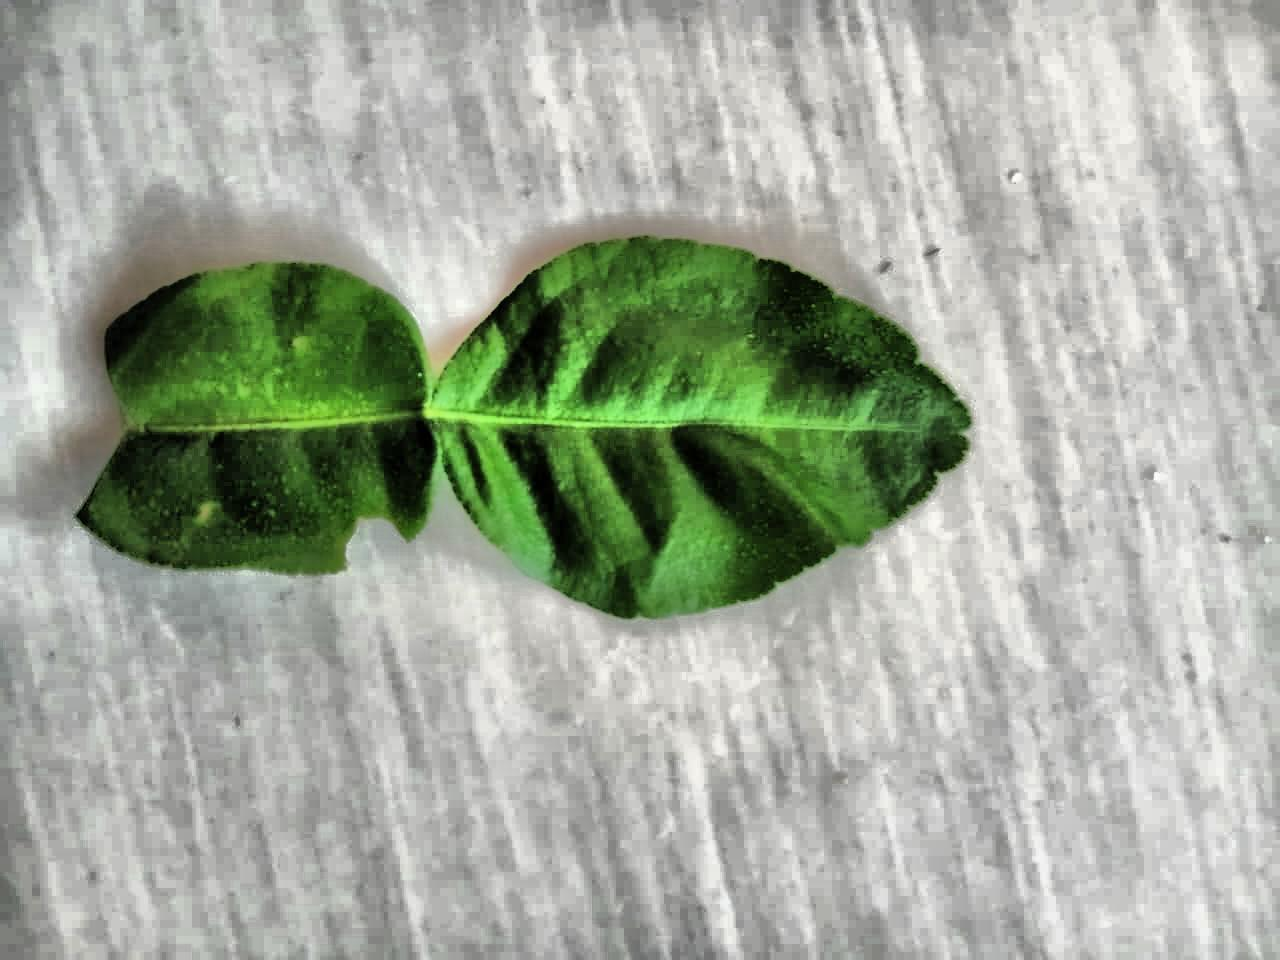daun jeruk: (76, 236, 971, 617)
